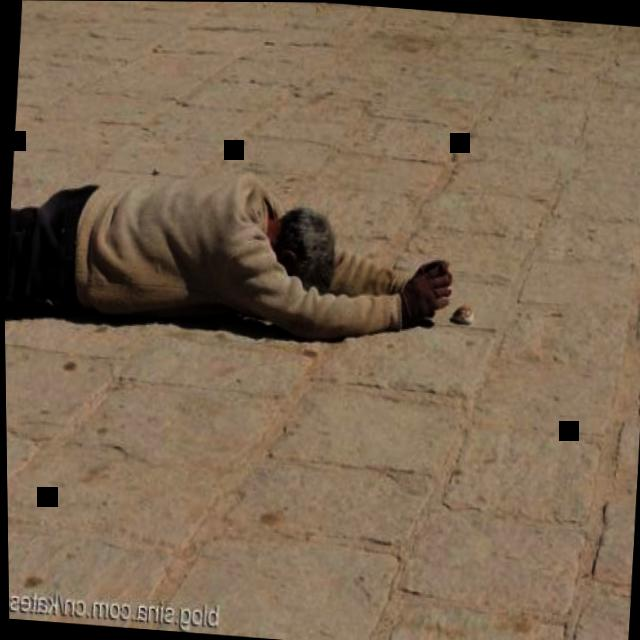Fall-Detected: (19, 135, 480, 366)
